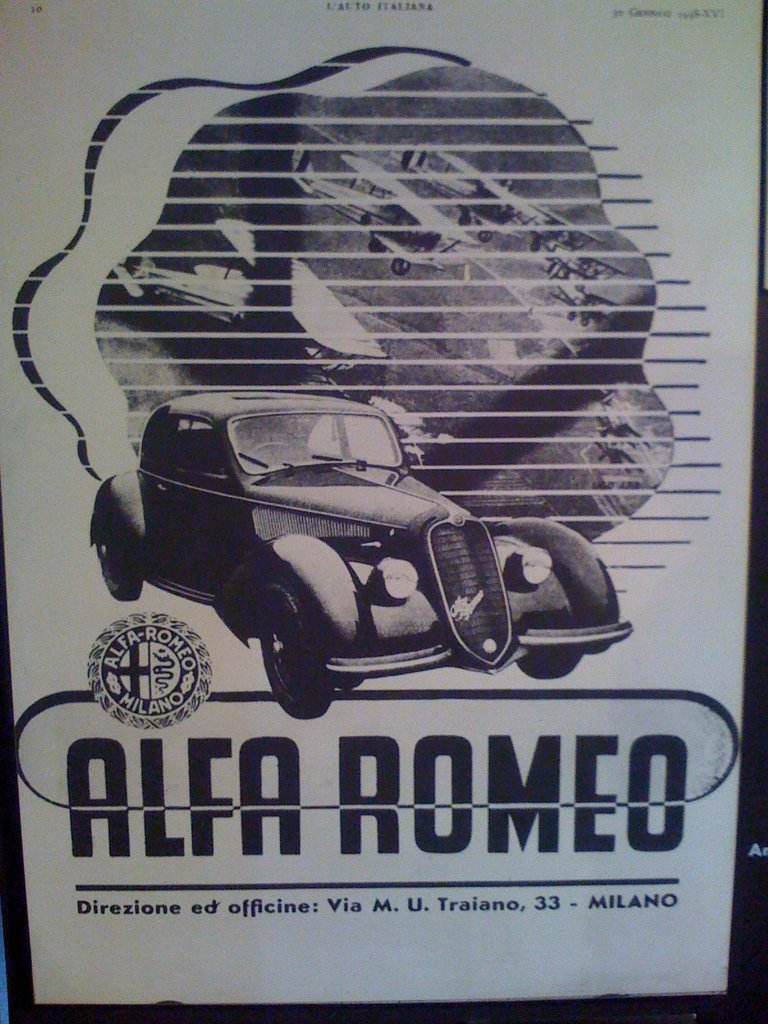Car: (103, 407, 604, 727)
